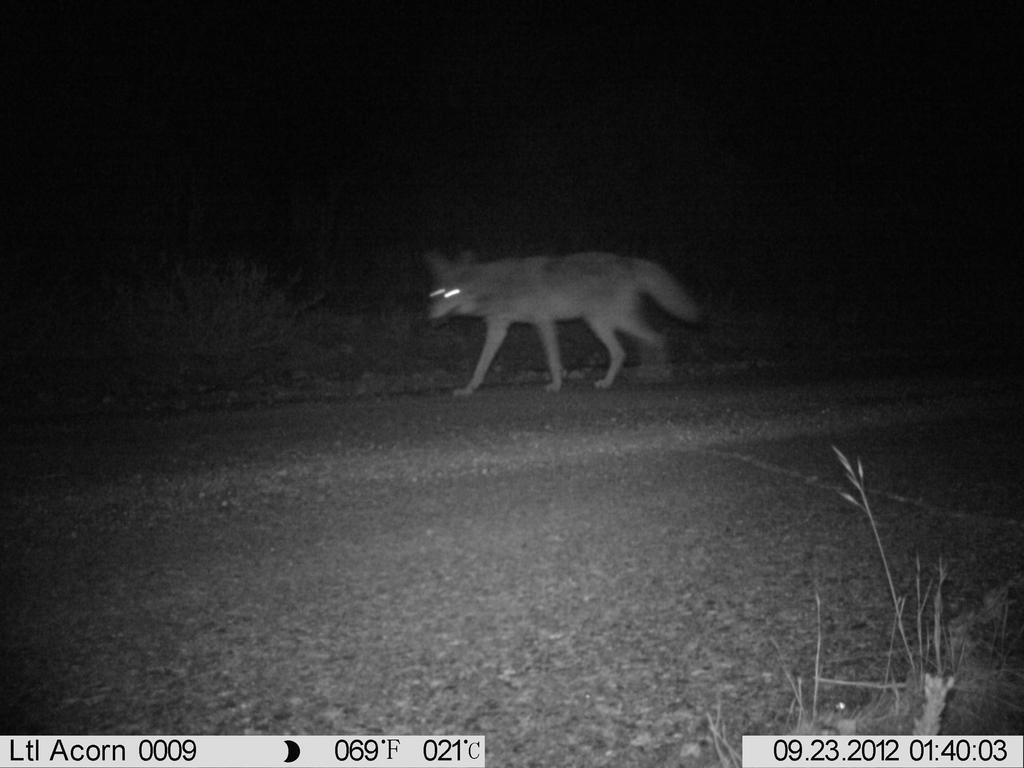coyote: (405, 241, 721, 407)
